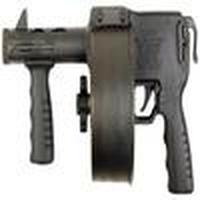gun: (2, 6, 194, 195)
